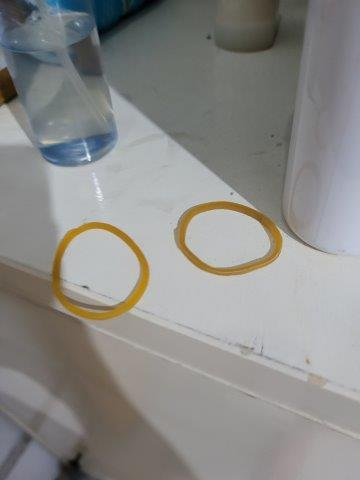karet: (50, 220, 150, 320), (177, 199, 283, 275)
